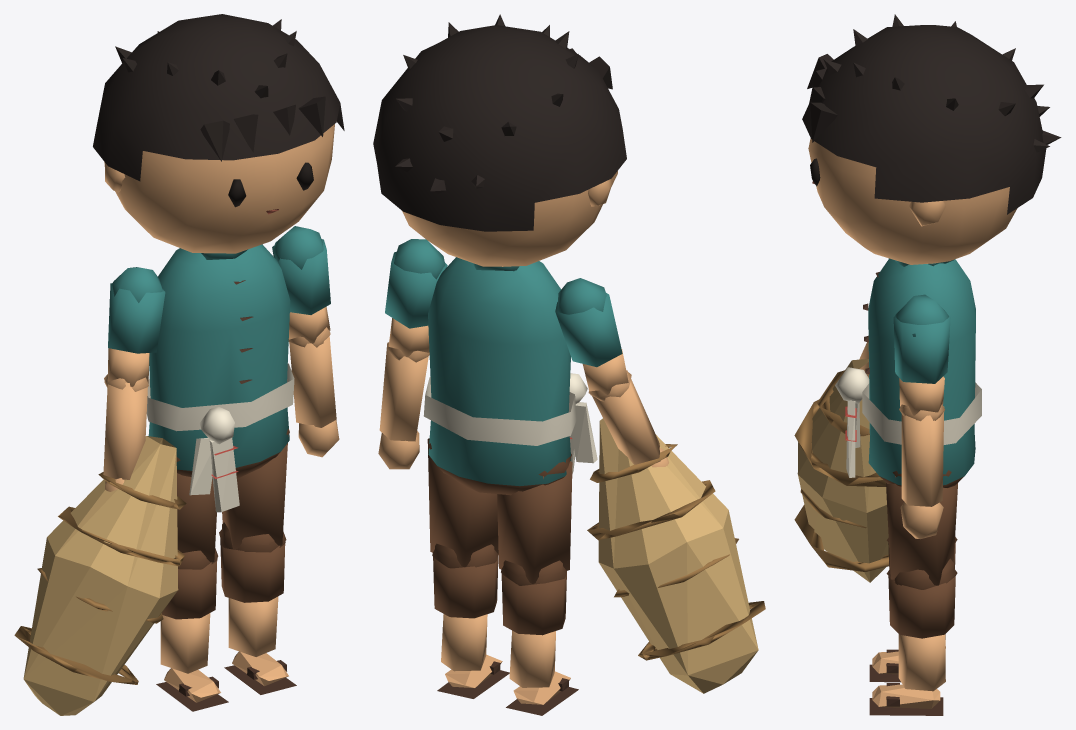
File: isan_fish_trap_boy.glb
3 views of the same model, side by side, from view 1: azimuth 30°, elevation 25°; view 2: azimuth 150°, elevation 25°; view 3: azimuth 270°, elevation 25° (orthographic).
Parts seen in each view (by area): view 1: head, body, prop_fish_trap, shin_L, shin_R, arm_R, arm_L, leg_L, forearm_L, forearm_R, leg_R; view 2: head, body, prop_fish_trap, shin_R, shin_L, leg_R, arm_R, leg_L, arm_L, forearm_L, forearm_R; view 3: head, body, prop_fish_trap, shin_L, arm_L, forearm_L, leg_L, shin_R.
Part boxes in pixels (left/top/right/bottom): head: left=93, top=14, right=344, bottom=253; body: left=146, top=244, right=294, bottom=512; prop_fish_trap: left=14, top=436, right=186, bottom=715; shin_L: left=220, top=522, right=296, bottom=694; shin_R: left=156, top=549, right=228, bottom=711; arm_R: left=104, top=267, right=165, bottom=391; arm_L: left=272, top=226, right=330, bottom=347; leg_L: left=219, top=428, right=289, bottom=552; forearm_L: left=289, top=327, right=339, bottom=457; forearm_R: left=103, top=377, right=147, bottom=491; leg_R: left=176, top=457, right=218, bottom=569; head: left=373, top=14, right=626, bottom=266; body: left=423, top=257, right=597, bottom=495; prop_fish_trap: left=587, top=418, right=765, bottom=693; shin_R: left=501, top=560, right=578, bottom=715; shin_L: left=433, top=543, right=509, bottom=698; leg_R: left=497, top=454, right=572, bottom=585; arm_R: left=555, top=278, right=631, bottom=401; leg_L: left=427, top=438, right=498, bottom=568; arm_L: left=385, top=239, right=447, bottom=362; forearm_L: left=378, top=342, right=429, bottom=469; forearm_R: left=590, top=370, right=668, bottom=467; head: left=802, top=14, right=1061, bottom=264; body: left=835, top=258, right=981, bottom=487; prop_fish_trap: left=794, top=359, right=888, bottom=582; shin_L: left=869, top=558, right=955, bottom=715; arm_L: left=893, top=294, right=950, bottom=421; forearm_L: left=899, top=405, right=944, bottom=539; leg_L: left=886, top=470, right=957, bottom=589; shin_R: left=869, top=542, right=955, bottom=682.
Bounding box in the file's own units: 0.7569 × 1.38 × 0.5087.
